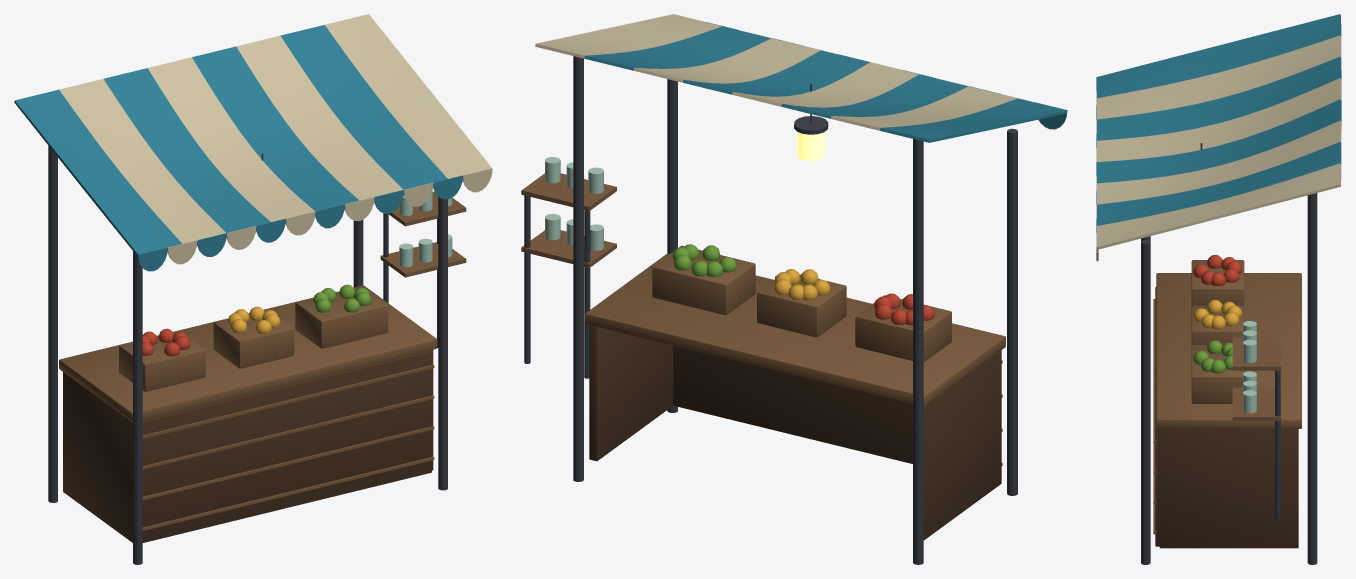
The model's file is market-stall.glb.
3 renders of one model, left to right at view 1: azimuth 30°, elevation 25°; view 2: azimuth 150°, elevation 25°; view 3: azimuth 270°, elevation 25°, orthographic. The views are drawn at different scales.
Visible parts, largest first — view 1: MarketStall; view 2: MarketStall; view 3: MarketStall.
Part boxes in pixels (x1,y1,x2,y2): MarketStall: [14, 14, 492, 564]; MarketStall: [521, 14, 1067, 564]; MarketStall: [1096, 14, 1341, 564].
Bounding box in the file's own units: 3.25 × 3.1 × 1.76.
